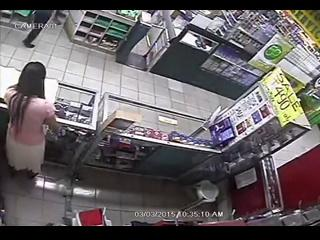Normal: (4, 61, 61, 180)
